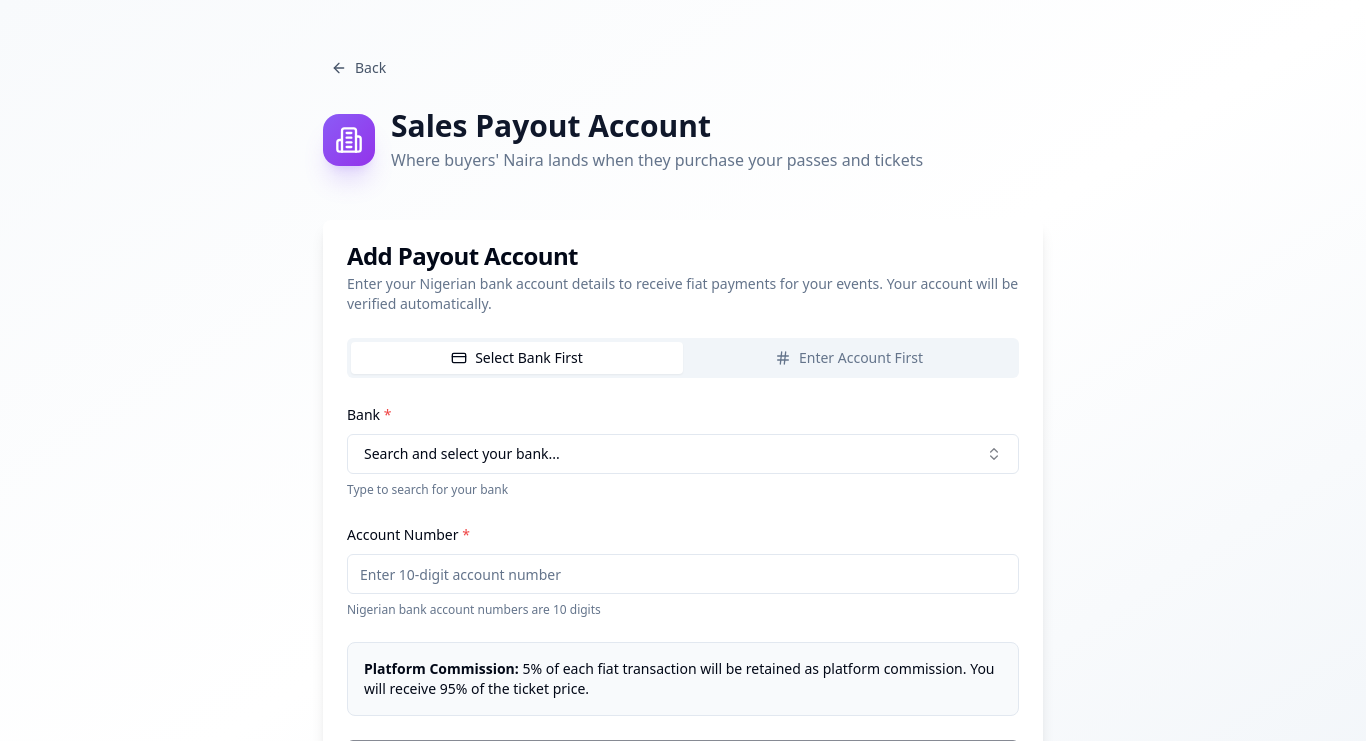
Test case: VendorPayoutAccount › Form Validation › validates account number is exactly 10 digits
Type "123" into the field labelled "Account Number *" at (683, 574), box [347,554,1019,594]
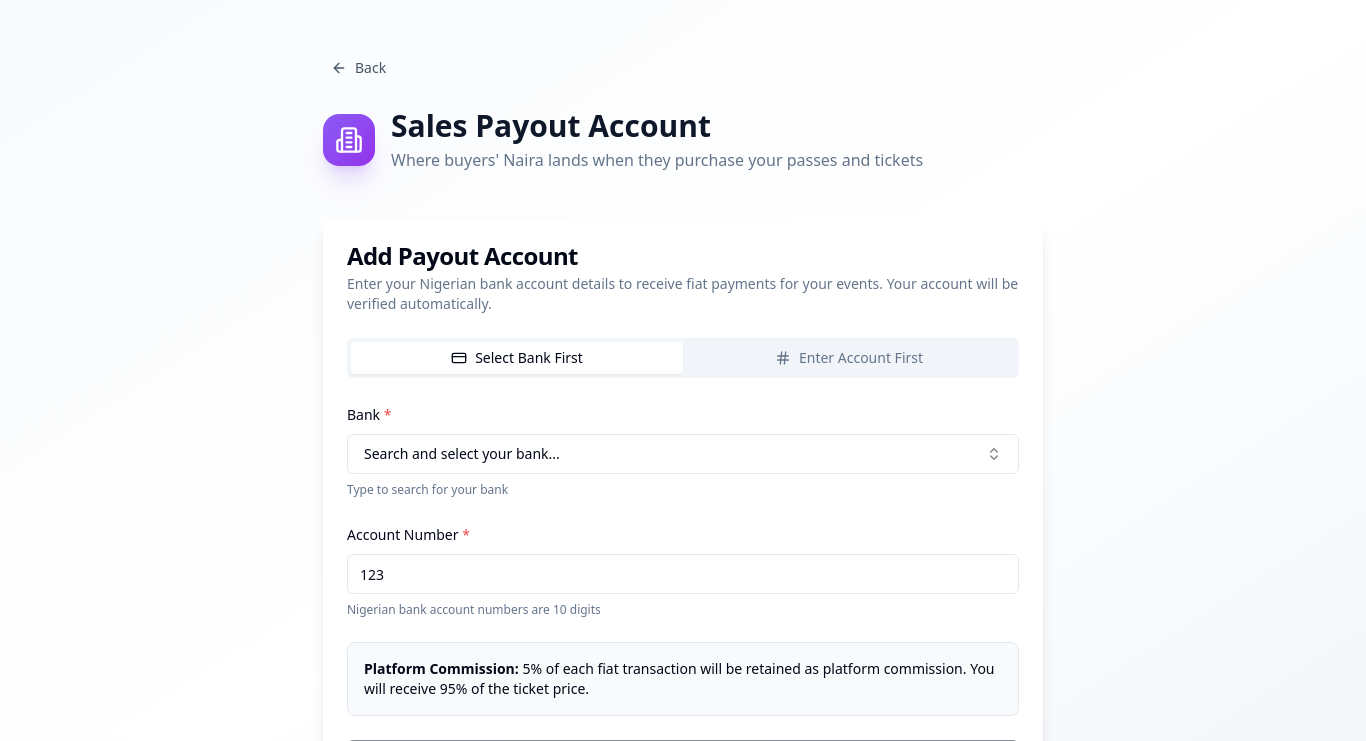
Replace the text in the field labelled "Account Number *" with "01234567890123" at (683, 574), box [347,554,1019,594]
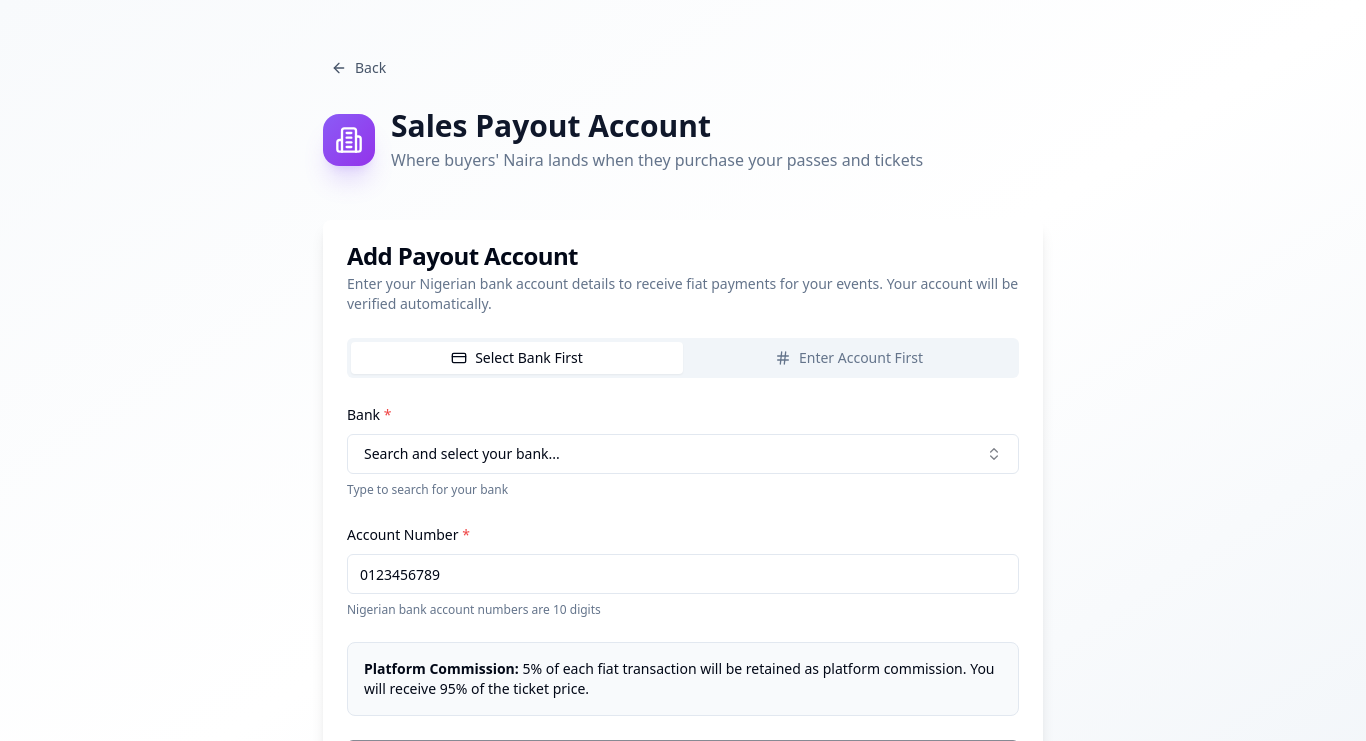
Check: the field labelled "Account Number *" holds "0123456789", box [347,554,1019,594]
